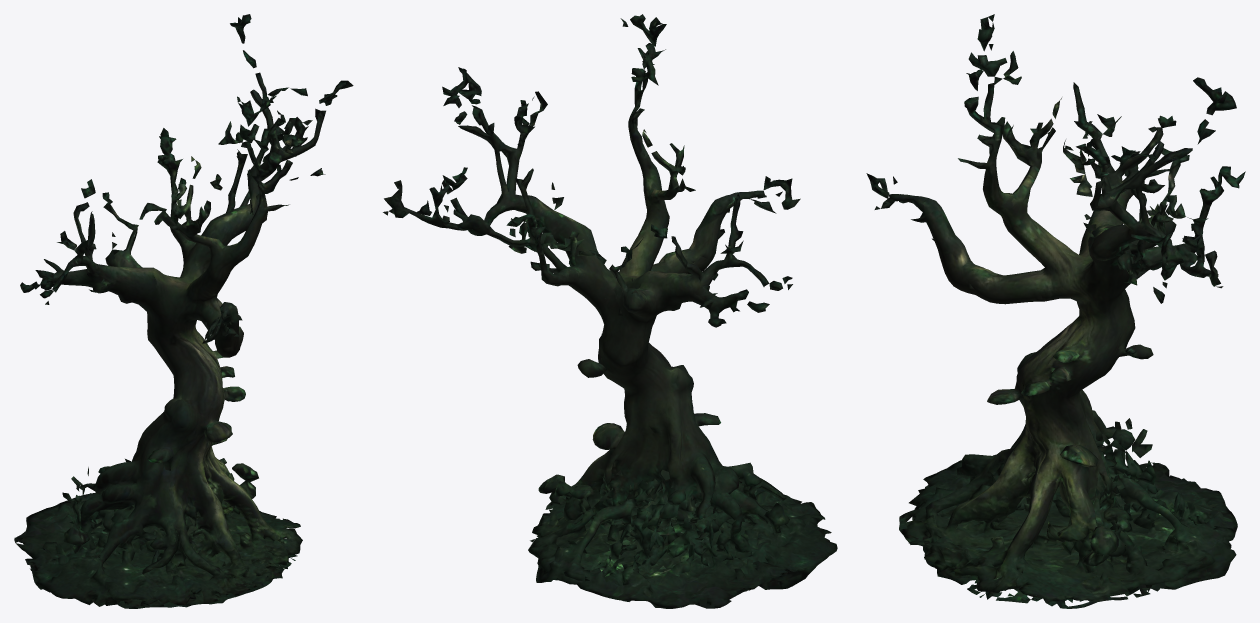
Rendered from A_Magical_tree_in_dar_0502100556.fbx.
3 views of the same model, side by side, from view 1: azimuth 30°, elevation 25°; view 2: azimuth 150°, elevation 25°; view 3: azimuth 270°, elevation 25° (orthographic). The views are drawn at different scales.
Visible parts, largest first — view 1: Mesh_0; view 2: Mesh_0; view 3: Mesh_0.
Boxes of the visible parts, x1=… form: Mesh_0: x1=14, y1=14, x2=353, y2=608; Mesh_0: x1=383, y1=14, x2=837, y2=608; Mesh_0: x1=866, y1=14, x2=1245, y2=608.
Bounding box in the file's own units: 145 × 191 × 118.
1 material, 1 textured.
